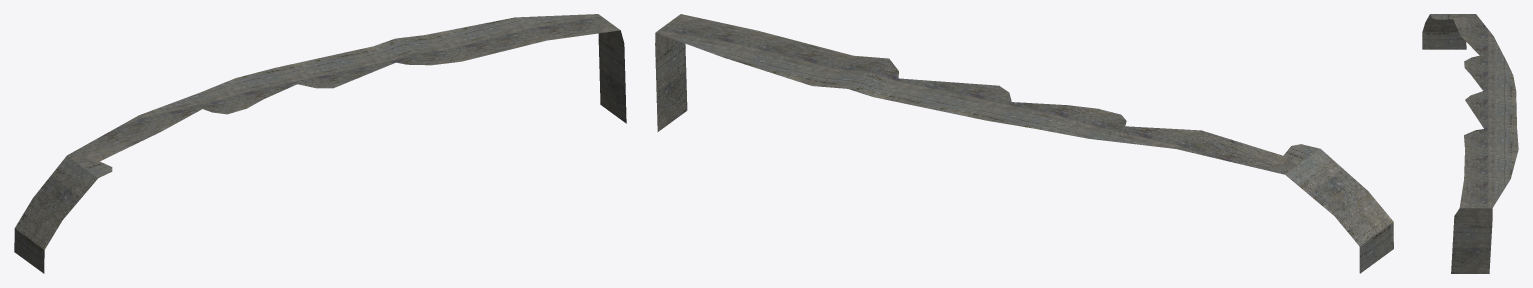
File: ArtilleryBunker_Damage_Patch.FBX
The picture shows the model from 3 angles, left to right: view 1: azimuth 30°, elevation 25°; view 2: azimuth 150°, elevation 25°; view 3: azimuth 270°, elevation 25°; orthographic projection. The views are drawn at different scales.
Parts seen in each view (by area): view 1: ArtilleryBunker_Damage_Patch; view 2: ArtilleryBunker_Damage_Patch; view 3: ArtilleryBunker_Damage_Patch.
Part boxes in pixels (<box>): ArtilleryBunker_Damage_Patch: <box>14,14,626,273</box>; ArtilleryBunker_Damage_Patch: <box>655,14,1393,273</box>; ArtilleryBunker_Damage_Patch: <box>1422,14,1518,273</box>.
Size of the model in its own units: 4302 by 682 by 811.
